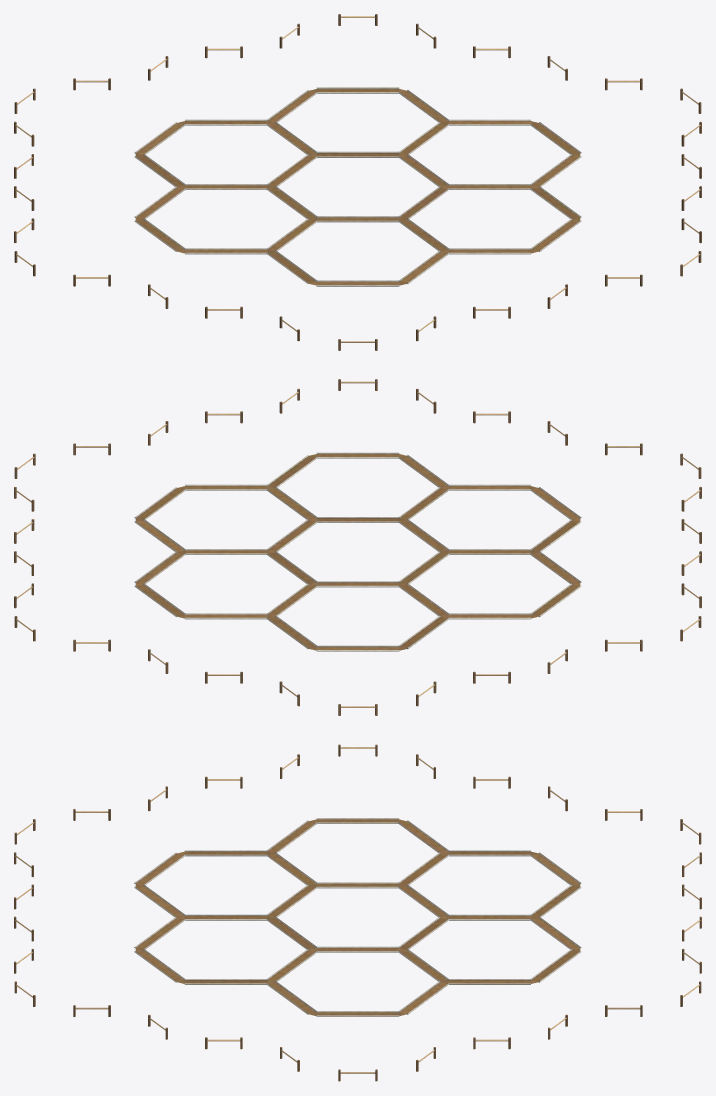
Rendered from ground-5.glb.
The picture shows the model from 3 angles, top to bottom: view 1: azimuth 30°, elevation 25°; view 2: azimuth 150°, elevation 25°; view 3: azimuth 270°, elevation 25°; orthographic projection.
Visible parts, largest first — view 1: ground-5; view 2: ground-5; view 3: ground-5.
Boxes of the visible parts, x1,y1,x2,y2 form: ground-5: (14,14,701,350); ground-5: (14,379,701,715); ground-5: (14,744,701,1081).
Size of the model in its own units: 10.13 by 0.1599 by 9.04.
Materials: 1 (1 with a texture image).
